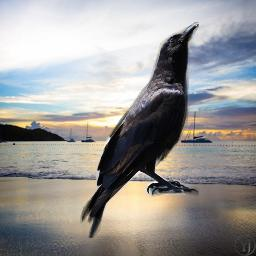Crow: (80, 22, 199, 238)
